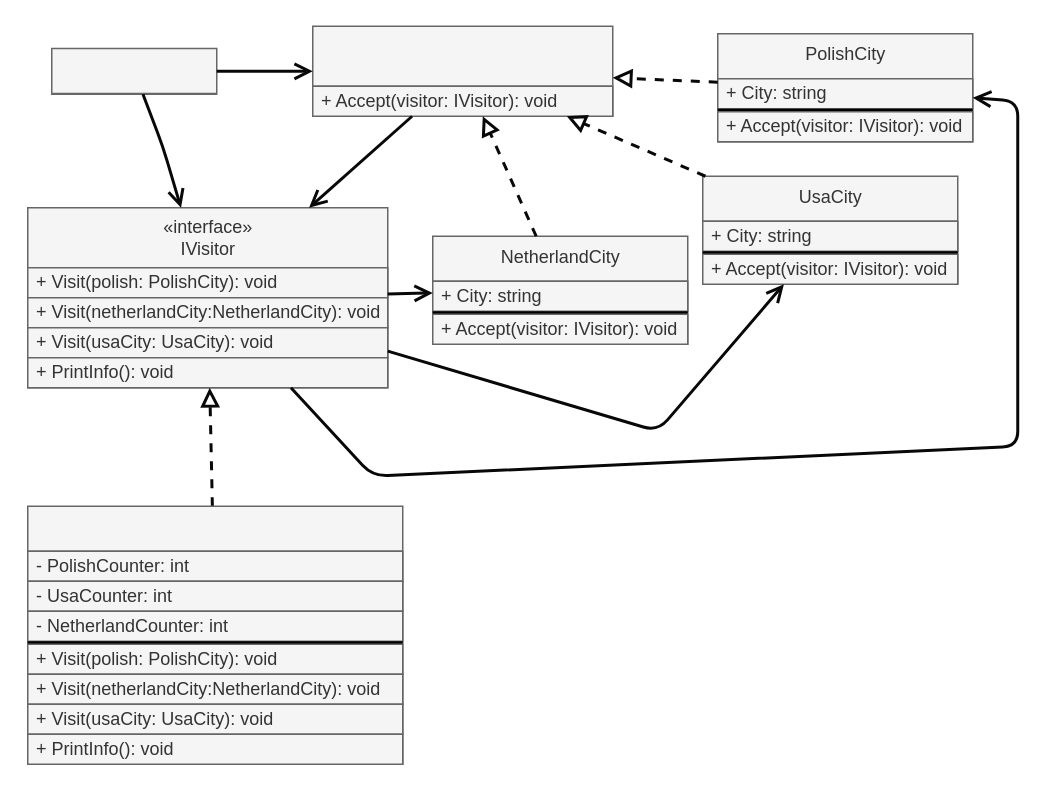
Image size: 1059x791. Some labels were removed from this diagram. Here are the shapes that lost their labels. From the top down, the box of each, then its label:
(50, 47, 217, 94): Program
(311, 25, 613, 116): «interface» ICity
(26, 505, 403, 764): Visitor
